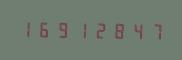eight: (107, 20, 124, 40)
four: (125, 20, 142, 40)
nine: (53, 19, 70, 39)
one: (17, 18, 34, 39), (71, 19, 88, 39)
seven: (143, 20, 160, 41)
six: (35, 19, 52, 39)
two: (89, 19, 106, 40)
